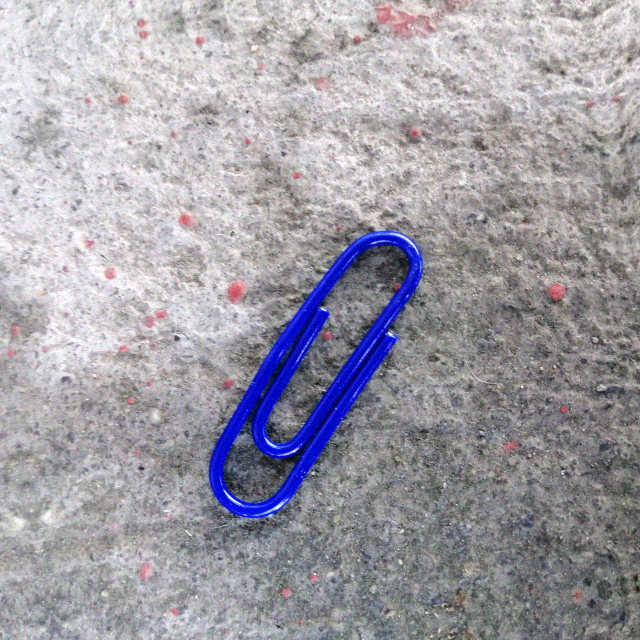pin: (173, 223, 461, 534)
